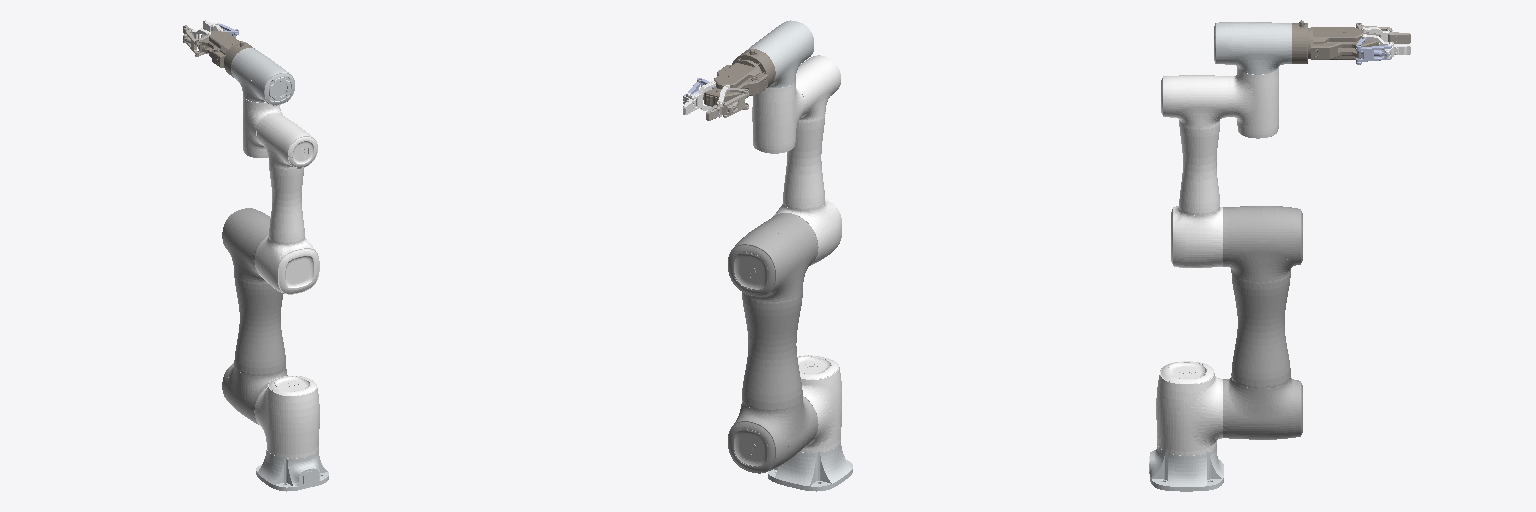
The robot description file, URDF, robot "dobot_cr7_gripper_v6":
<?xml version="1.0" encoding="utf-8"?>
<!-- This URDF was automatically created by SolidWorks to URDF Exporter! Originally created by Stephen Brawner (brawner@gmail.com) 
     Commit Version: 1.6.0-4-g7f85cfe  Build Version: 1.6.7995.38578
     For more information, please see http://wiki.ros.org/sw_urdf_exporter -->
<robot
  name="dobot_cr7_gripper_v6">
  <link
    name="base_link" />
  <joint
    name="base_link_to_b0"
    type="fixed">
    <origin
      xyz="0 0 0"
      rpy="0 0 0" />
    <parent
      link="base_link" />
    <child
      link="b0" />
  </joint>
  <link
    name="b0">
    <inertial>
      <origin
        xyz="4.1733020741553E-06 -0.002126922884313 0.0289949925386515"
        rpy="0 0 0" />
      <mass
        value="2.45374588609225" />
      <inertia
        ixx="0.00392703244780681"
        ixy="1.10752110012074E-07"
        ixz="4.92142898534936E-07"
        iyy="0.00363144728266762"
        iyz="1.6867983087399E-05"
        izz="0.00581838177998014" />
    </inertial>
    <visual>
      <origin
        xyz="0 0 0"
        rpy="0 0 0" />
      <geometry>
        <mesh
          filename="package://dobot_cr7_gripper_v6_description/meshes/b0.STL" />
      </geometry>
      <material
        name="">
        <color
          rgba="0.898039215686275 0.917647058823529 0.929411764705882 1" />
      </material>
    </visual>
    <collision>
      <origin
        xyz="0 0 0"
        rpy="0 0 0" />
      <geometry>
        <mesh
          filename="package://dobot_cr7_gripper_v6_description/meshes/b0.STL" />
      </geometry>
    </collision>
  </link>
  <link
    name="l1">
    <inertial>
      <origin
        xyz="2.21022348131927E-07 0.00610392350001822 0.0553627609927616"
        rpy="0 0 0" />
      <mass
        value="3.64256245000588" />
      <inertia
        ixx="0.00718544646864235"
        ixy="-5.94566324465764E-09"
        ixz="-6.49848019687535E-08"
        iyy="0.00685903542400403"
        iyz="-0.00105850868464744"
        izz="0.00773256149484338" />
    </inertial>
    <visual>
      <origin
        xyz="0 0 0"
        rpy="0 0 0" />
      <geometry>
        <mesh
          filename="package://dobot_cr7_gripper_v6_description/meshes/l1.STL" />
      </geometry>
      <material
        name="">
        <color
          rgba="1 1 1 1" />
      </material>
    </visual>
    <collision>
      <origin
        xyz="0 0 0"
        rpy="0 0 0" />
      <geometry>
        <mesh
          filename="package://dobot_cr7_gripper_v6_description/meshes/l1.STL" />
      </geometry>
    </collision>
  </link>
  <joint
    name="j1"
    type="revolute">
    <origin
      xyz="0 -0.00021637 0.0713"
      rpy="0 0 0" />
    <parent
      link="b0" />
    <child
      link="l1" />
    <axis
      xyz="0 0 -1" />
    <limit
      lower="-1.57"
      upper="1.57"
      effort="10.0"
      velocity="1.0" />
  </joint>
  <link
    name="l2">
    <inertial>
      <origin
        xyz="-4.59527627217488E-08 0.187062461058014 -0.0580208770127095"
        rpy="0 0 0" />
      <mass
        value="8.24352301427932" />
      <inertia
        ixx="0.0207959469870456"
        ixy="-1.78471020106079E-09"
        ixz="-4.18371845293363E-09"
        iyy="0.0160569655745956"
        iyz="-1.08573393947785E-08"
        izz="0.0219167054398118" />
    </inertial>
    <visual>
      <origin
        xyz="0 0 0"
        rpy="0 0 0" />
      <geometry>
        <mesh
          filename="package://dobot_cr7_gripper_v6_description/meshes/l2.STL" />
      </geometry>
      <material
        name="">
        <color
          rgba="0.752941176470588 0.752941176470588 0.752941176470588 1" />
      </material>
    </visual>
    <collision>
      <origin
        xyz="0 0 0"
        rpy="0 0 0" />
      <geometry>
        <mesh
          filename="package://dobot_cr7_gripper_v6_description/meshes/l2.STL" />
      </geometry>
    </collision>
  </link>
  <joint
    name="j2"
    type="revolute">
    <origin
      xyz="0 0.0713 0.0757"
      rpy="1.5708 0 0" />
    <parent
      link="l1" />
    <child
      link="l2" />
    <axis
      xyz="0 0 1" />
    <limit
      lower="-1.57"
      upper="1.57"
      effort="10.0"
      velocity="1.0" />
  </joint>
  <link
    name="l3">
    <inertial>
      <origin
        xyz="-0.000337463023692339 -0.106336745858494 -0.0460199147763043"
        rpy="0 0 0" />
      <mass
        value="5.13652110851556" />
      <inertia
        ixx="0.00954934825788366"
        ixy="-6.93913230410585E-06"
        ixz="8.83210318699203E-07"
        iyy="0.00736445106905854"
        iyz="0.000288366873727222"
        izz="0.0101629847929951" />
    </inertial>
    <visual>
      <origin
        xyz="0 0 0"
        rpy="0 0 0" />
      <geometry>
        <mesh
          filename="package://dobot_cr7_gripper_v6_description/meshes/l3.STL" />
      </geometry>
      <material
        name="">
        <color
          rgba="1 1 1 1" />
      </material>
    </visual>
    <collision>
      <origin
        xyz="0 0 0"
        rpy="0 0 0" />
      <geometry>
        <mesh
          filename="package://dobot_cr7_gripper_v6_description/meshes/l3.STL" />
      </geometry>
    </collision>
  </link>
  <joint
    name="j3"
    type="revolute">
    <origin
      xyz="0 0.377 0"
      rpy="3.1416 0 0" />
    <parent
      link="l2" />
    <child
      link="l3" />
    <axis
      xyz="0 0 -1" />
    <limit
      lower="-1.57"
      upper="1.57"
      effort="10.0"
      velocity="1.0" />
  </joint>
  <link
    name="l4">
    <inertial>
      <origin
        xyz="-5.09615017031343E-05 -0.0159872037532077 0.0457383588656379"
        rpy="0 0 0" />
      <mass
        value="1.43706105399006" />
      <inertia
        ixx="0.00158497446693382"
        ixy="-4.08635894240934E-07"
        ixz="7.96065936777005E-07"
        iyy="0.00145962530684959"
        iyz="0.000253746595779745"
        izz="0.00152513942890828" />
    </inertial>
    <visual>
      <origin
        xyz="0 0 0"
        rpy="0 0 0" />
      <geometry>
        <mesh
          filename="package://dobot_cr7_gripper_v6_description/meshes/l4.STL" />
      </geometry>
      <material
        name="">
        <color
          rgba="1 1 1 1" />
      </material>
    </visual>
    <collision>
      <origin
        xyz="0 0 0"
        rpy="0 0 0" />
      <geometry>
        <mesh
          filename="package://dobot_cr7_gripper_v6_description/meshes/l4.STL" />
      </geometry>
    </collision>
  </link>
  <joint
    name="j4"
    type="revolute">
    <origin
      xyz="-0.00097471 -0.307 0.0202"
      rpy="0 0 0" />
    <parent
      link="l3" />
    <child
      link="l4" />
    <axis
      xyz="0 0 -1" />
    <limit
      lower="-1.57"
      upper="1.57"
      effort="10.0"
      velocity="1.0" />
  </joint>
  <link
    name="l5">
    <inertial>
      <origin
        xyz="-0.00017277947384858 0.0121518239336171 0.0459431419721321"
        rpy="0 0 0" />
      <mass
        value="1.49205328420549" />
      <inertia
        ixx="0.00164391582846018"
        ixy="5.8135079679372E-07"
        ixz="1.08059931231378E-08"
        iyy="0.00151560882568869"
        iyz="-0.000261884598827414"
        izz="0.00158193041136837" />
    </inertial>
    <visual>
      <origin
        xyz="0 0 0"
        rpy="0 0 0" />
      <geometry>
        <mesh
          filename="package://dobot_cr7_gripper_v6_description/meshes/l5.STL" />
      </geometry>
      <material
        name="">
        <color
          rgba="0.898039215686275 0.917647058823529 0.929411764705882 1" />
      </material>
    </visual>
    <collision>
      <origin
        xyz="0 0 0"
        rpy="0 0 0" />
      <geometry>
        <mesh
          filename="package://dobot_cr7_gripper_v6_description/meshes/l5.STL" />
      </geometry>
    </collision>
  </link>
  <joint
    name="j5"
    type="revolute">
    <origin
      xyz="-0.00021113 -0.0665 0.0495"
      rpy="1.5708 0 0" />
    <parent
      link="l4" />
    <child
      link="l5" />
    <axis
      xyz="0 0 -1" />
    <limit
      lower="-1.57"
      upper="1.57"
      effort="10.0"
      velocity="1.0" />
  </joint>
  <link
    name="l6">
    <inertial>
      <origin
        xyz="-9.11270113711053E-06 -0.000170566504042902 0.0206939848447974"
        rpy="0 0 0" />
      <mass
        value="0.790611055185509" />
      <inertia
        ixx="0.000695158975705042"
        ixy="1.76823785431883E-07"
        ixz="-1.63442777812014E-07"
        iyy="0.000784252751920807"
        iyz="-3.95644194393427E-07"
        izz="0.000565160085621698" />
    </inertial>
    <visual>
      <origin
        xyz="0 0 0"
        rpy="0 0 0" />
      <geometry>
        <mesh
          filename="package://dobot_cr7_gripper_v6_description/meshes/l6.STL" />
      </geometry>
      <material
        name="">
        <color
          rgba="0.647058823529412 0.619607843137255 0.588235294117647 1" />
      </material>
    </visual>
    <collision>
      <origin
        xyz="0 0 0"
        rpy="0 0 0" />
      <geometry>
        <mesh
          filename="package://dobot_cr7_gripper_v6_description/meshes/l6.STL" />
      </geometry>
    </collision>
  </link>
  <joint
    name="j6"
    type="revolute">
    <origin
      xyz="-0.00015716 0.0985 0.0495"
      rpy="-1.5708 0 0" />
    <parent
      link="l5" />
    <child
      link="l6" />
    <axis
      xyz="0 0 -1" />
    <limit
      lower="-1.57"
      upper="1.57"
      effort="10.0"
      velocity="1.0" />
  </joint>
  <link
    name="l7">
    <inertial>
      <origin
        xyz="-0.00782180039583221 0.0228053393289578 0.0115252284273227"
        rpy="0 0 0" />
      <mass
        value="0.0186467758678086" />
      <inertia
        ixx="6.47182441861692E-06"
        ixy="1.52710717840413E-07"
        ixz="3.60703793858103E-09"
        iyy="2.96061145428906E-06"
        iyz="4.86134876480409E-10"
        izz="5.33586013930932E-06" />
    </inertial>
    <visual>
      <origin
        xyz="0 0 0"
        rpy="0 0 0" />
      <geometry>
        <mesh
          filename="package://dobot_cr7_gripper_v6_description/meshes/l7.STL" />
      </geometry>
      <material
        name="">
        <color
          rgba="0.772549019607843 0.752941176470588 0.733333333333333 1" />
      </material>
    </visual>
    <collision>
      <origin
        xyz="0 0 0"
        rpy="0 0 0" />
      <geometry>
        <mesh
          filename="package://dobot_cr7_gripper_v6_description/meshes/l7.STL" />
      </geometry>
    </collision>
  </link>
  <joint
    name="j7"
    type="revolute">
    <origin
      xyz="-0.051462 -0.011387 0.10168"
      rpy="1.5708 0 3.1416" />
    <parent
      link="l6" />
    <child
      link="l7" />
    <axis
      xyz="0 0 1" />
    <limit
      lower="-0.78539816339"
      upper="0.78539816339"
      effort="10.0"
      velocity="1.0" />
  </joint>
  <link
    name="l8">
    <inertial>
      <origin
        xyz="0.00439538089354101 0.0225682763464216 0.0268140897890907"
        rpy="0 0 0" />
      <mass
        value="0.0114281719599983" />
      <inertia
        ixx="6.64962247456642E-06"
        ixy="-7.94858050399171E-07"
        ixz="9.06362561270214E-09"
        iyy="3.38558307343057E-06"
        iyz="-2.52369986041215E-09"
        izz="3.79492320463891E-06" />
    </inertial>
    <visual>
      <origin
        xyz="0 0 0"
        rpy="0 0 0" />
      <geometry>
        <mesh
          filename="package://dobot_cr7_gripper_v6_description/meshes/l8.STL" />
      </geometry>
      <material
        name="">
        <color
          rgba="1 1 1 1" />
      </material>
    </visual>
    <collision>
      <origin
        xyz="0 0 0"
        rpy="0 0 0" />
      <geometry>
        <mesh
          filename="package://dobot_cr7_gripper_v6_description/meshes/l8.STL" />
      </geometry>
    </collision>
  </link>
  <joint
    name="j8"
    type="revolute">
    <origin
      xyz="-0.035377 0.010679 -0.015362"
      rpy="0 0 0" />
    <parent
      link="l7" />
    <child
      link="l8" />
    <axis
      xyz="0 0 -1" />
    <limit
      lower="-0.78539816339"
      upper="0.78539816339"
      effort="10.0"
      velocity="1.0" />
    <mimic
      joint="j7"
      multiplier="1"
      offset="0" />
  </joint>
  <link
    name="l9">
    <inertial>
      <origin
        xyz="0.0021672974500126 -0.010100928110193 -0.016041743343971"
        rpy="0 0 0" />
      <mass
        value="0.0130682756929982" />
      <inertia
        ixx="1.21102165837284E-06"
        ixy="-1.53656743295185E-07"
        ixz="-5.31864700094401E-10"
        iyy="9.49226741264766E-07"
        iyz="1.47566575441954E-09"
        izz="1.07543176794534E-06" />
    </inertial>
    <visual>
      <origin
        xyz="0 0 0"
        rpy="0 0 0" />
      <geometry>
        <mesh
          filename="package://dobot_cr7_gripper_v6_description/meshes/l9.STL" />
      </geometry>
      <material
        name="">
        <color
          rgba="0.772549019607843 0.752941176470588 0.733333333333333 1" />
      </material>
    </visual>
    <collision>
      <origin
        xyz="0 0 0"
        rpy="0 0 0" />
      <geometry>
        <mesh
          filename="package://dobot_cr7_gripper_v6_description/meshes/l9.STL" />
      </geometry>
    </collision>
  </link>
  <joint
    name="j9"
    type="revolute">
    <origin
      xyz="0.013469 0.053316 0.011143"
      rpy="3.1416 0 0" />
    <parent
      link="l8" />
    <child
      link="l9" />
    <axis
      xyz="0 0 1" />
    <limit
      lower="-0.78539816339"
      upper="0.78539816339"
      effort="10.0"
      velocity="1.0" />
    <mimic
      joint="j7"
      multiplier="1"
      offset="0" />
  </joint>
  <link
    name="l7-right">
    <inertial>
      <origin
        xyz="0.00774845923850054 -0.0228053393289464 -0.0115746551454446"
        rpy="0 0 0" />
      <mass
        value="0.0186467758678085" />
      <inertia
        ixx="6.47182441861688E-06"
        ixy="1.52710717840424E-07"
        ixz="-3.60703794116798E-09"
        iyy="2.96061145428907E-06"
        iyz="-4.86134876829569E-10"
        izz="5.33586013930932E-06" />
    </inertial>
    <visual>
      <origin
        xyz="0 0 0"
        rpy="0 0 0" />
      <geometry>
        <mesh
          filename="package://dobot_cr7_gripper_v6_description/meshes/l7-right.STL" />
      </geometry>
      <material
        name="">
        <color
          rgba="0.796078431372549 0.823529411764706 0.933333333333333 1" />
      </material>
    </visual>
    <collision>
      <origin
        xyz="0 0 0"
        rpy="0 0 0" />
      <geometry>
        <mesh
          filename="package://dobot_cr7_gripper_v6_description/meshes/l7-right.STL" />
      </geometry>
    </collision>
  </link>
  <joint
    name="j7-right"
    type="revolute">
    <origin
      xyz="0.051388 -0.011713 0.10168"
      rpy="-1.5708 0 3.1416" />
    <parent
      link="l6" />
    <child
      link="l7-right" />
    <axis
      xyz="0 0 1" />
    <limit
      lower="-0.78539816339"
      upper="0.78539816339"
      effort="10.0"
      velocity="1.0" />
    <mimic
      joint="j7"
      multiplier="1"
      offset="0" />
  </joint>
  <link
    name="l8-right">
    <inertial>
      <origin
        xyz="-0.00456555777808542 -0.0225682763464217 -0.0267856400593594"
        rpy="0 0 0" />
      <mass
        value="0.0114281719599983" />
      <inertia
        ixx="6.64962247456638E-06"
        ixy="-7.94858050399165E-07"
        ixz="-9.06362561918104E-09"
        iyy="3.38558307343056E-06"
        iyz="2.52369986222923E-09"
        izz="3.79492320463896E-06" />
    </inertial>
    <visual>
      <origin
        xyz="0 0 0"
        rpy="0 0 0" />
      <geometry>
        <mesh
          filename="package://dobot_cr7_gripper_v6_description/meshes/l8-right.STL" />
      </geometry>
      <material
        name="">
        <color
          rgba="1 1 1 1" />
      </material>
    </visual>
    <collision>
      <origin
        xyz="0 0 0"
        rpy="0 0 0" />
      <geometry>
        <mesh
          filename="package://dobot_cr7_gripper_v6_description/meshes/l8-right.STL" />
      </geometry>
    </collision>
  </link>
  <joint
    name="j8-right"
    type="revolute">
    <origin
      xyz="0.035474 -0.010679 0.015137"
      rpy="0 0 0" />
    <parent
      link="l7-right" />
    <child
      link="l8-right" />
    <axis
      xyz="0 0 1" />
    <limit
      lower="-0.78539816339"
      upper="0.78539816339"
      effort="10.0"
      velocity="1.0" />
    <mimic
      joint="j7"
      multiplier="1"
      offset="0" />
  </joint>
  <link
    name="l9-right">
    <inertial>
      <origin
        xyz="-0.00226907715911154 0.0101009281101936 0.0160152832397724"
        rpy="0 0 0" />
      <mass
        value="0.0130682756929982" />
      <inertia
        ixx="1.21102165837287E-06"
        ixy="-1.53656743294214E-07"
        ixz="5.3186470007991E-10"
        iyy="9.49226741264744E-07"
        iyz="-1.47566575475493E-09"
        izz="1.07543176794535E-06" />
    </inertial>
    <visual>
      <origin
        xyz="0 0 0"
        rpy="0 0 0" />
      <geometry>
        <mesh
          filename="package://dobot_cr7_gripper_v6_description/meshes/l9-right.STL" />
      </geometry>
      <material
        name="">
        <color
          rgba="1 1 1 1" />
      </material>
    </visual>
    <collision>
      <origin
        xyz="0 0 0"
        rpy="0 0 0" />
      <geometry>
        <mesh
          filename="package://dobot_cr7_gripper_v6_description/meshes/l9-right.STL" />
      </geometry>
    </collision>
  </link>
  <joint
    name="j9-right"
    type="revolute">
    <origin
      xyz="-0.01354 -0.053316 -0.011057"
      rpy="3.1416 0 0" />
    <parent
      link="l8-right" />
    <child
      link="l9-right" />
    <axis
      xyz="0 0 1" />
    <limit
      lower="-0.78539816339"
      upper="0.78539816339"
      effort="10.0"
      velocity="1.0" />
    <mimic
      joint="j7"
      multiplier="1"
      offset="0" />
  </joint>
</robot>

--- Render facts (derived) ---
3 views of the same robot in one strip: view 1: azimuth 30°, elevation 25°; view 2: azimuth 150°, elevation 25°; view 3: azimuth 270°, elevation 25° (orthographic).
Model dobot_cr7_gripper_v6 with 14 links and 13 joints (12 revolute, 1 fixed), rooted at base_link, posed all joints at 0.
Links seen in each view (by area): view 1: l2, l3, l1, l5, b0, l4, l6; view 2: l2, l3, l1, l4, b0, l5, l6; view 3: l2, l3, l1, l5, l4, b0, l6.
Boxes of the visible links, x1,y1,x2,y2 form: l2: [222, 208, 287, 424]; l3: [254, 113, 319, 294]; l1: [254, 376, 319, 458]; l5: [231, 48, 294, 105]; b0: [256, 449, 328, 491]; l4: [243, 97, 282, 157]; l6: [201, 30, 254, 77]; l2: [728, 213, 817, 473]; l3: [772, 55, 841, 265]; l1: [797, 355, 841, 452]; l4: [752, 80, 804, 153]; b0: [768, 442, 852, 491]; l5: [746, 20, 813, 87]; l6: [703, 49, 775, 106]; l2: [1223, 206, 1302, 439]; l3: [1161, 75, 1232, 267]; l1: [1156, 361, 1222, 455]; l5: [1214, 22, 1291, 74]; l4: [1233, 66, 1278, 138]; b0: [1149, 444, 1223, 491]; l6: [1292, 20, 1378, 63].
Bounding box of the posed robot: 0.148 × 0.5212 × 0.9965 m (x, y, z).
Meshes: 13 distinct files referenced, 13 mesh visuals loaded (13 binary STL).
